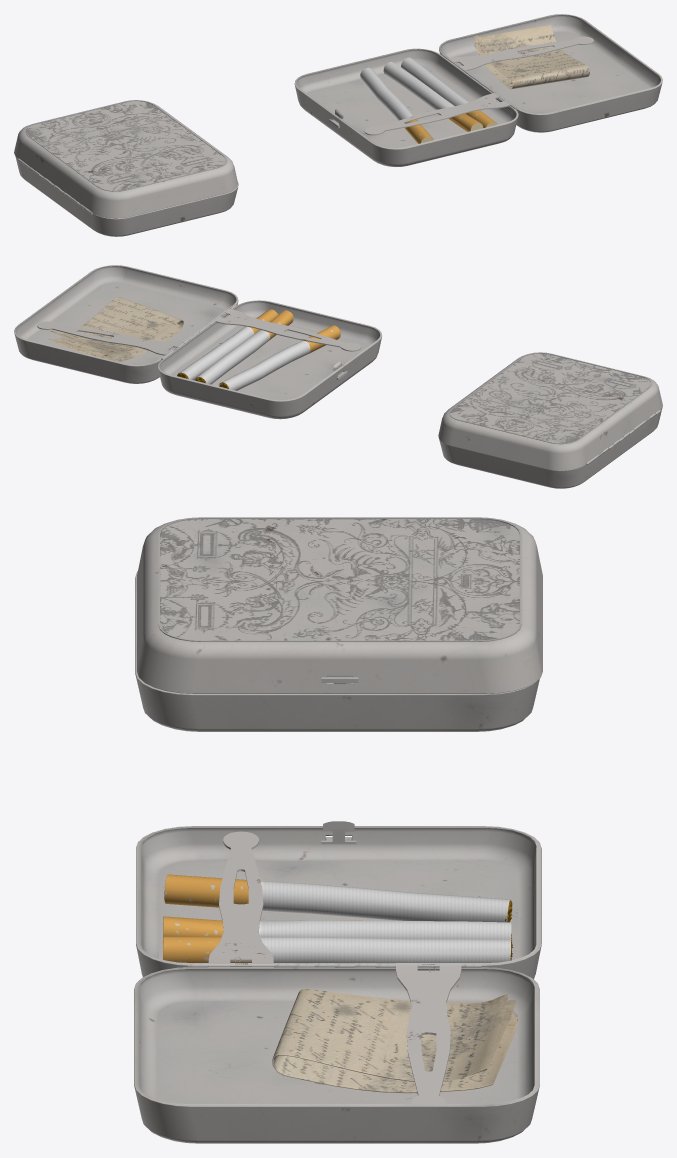
The model's file is cigarette_case.glb.
3 renders of one model, top to bottom at view 1: azimuth 30°, elevation 25°; view 2: azimuth 150°, elevation 25°; view 3: azimuth 270°, elevation 25°, orthographic. The views are drawn at different scales.
Parts seen in each view (by area): view 1: cigarette_case, cigarette_case_cover_a, cigarette_case_cover_b, cigarette_case_note, cigarette_case_clip_a, cigarette_case_cigarette_b, cigarette_case_clip_b, cigarette_case_cigarette_a, cigarette_case_cigarette_c; view 2: cigarette_case, cigarette_case_cover_a, cigarette_case_cover_b, cigarette_case_note, cigarette_case_cigarette_a, cigarette_case_clip_a, cigarette_case_cigarette_b, cigarette_case_clip_b, cigarette_case_cigarette_c; view 3: cigarette_case, cigarette_case_cover_b, cigarette_case_cover_a, cigarette_case_note, cigarette_case_cigarette_a, cigarette_case_cigarette_c, cigarette_case_cigarette_b, cigarette_case_clip_b, cigarette_case_clip_a.
Part boxes in pixels (x1,y1,x2,y2): cigarette_case: (14,100,238,236); cigarette_case_cover_a: (294,48,518,166); cigarette_case_cover_b: (439,14,662,132); cigarette_case_note: (474,25,589,89); cigarette_case_clip_a: (364,92,510,135); cigarette_case_cigarette_b: (383,62,483,131); cigarette_case_clip_b: (447,36,594,70); cigarette_case_cigarette_a: (360,67,433,143); cigarette_case_cigarette_c: (401,57,497,127); cigarette_case: (438,352,662,488); cigarette_case_cover_a: (157,300,381,419); cigarette_case_cover_b: (14,265,238,383); cigarette_case_note: (49,297,183,361); cigarette_case_cigarette_a: (218,325,340,390); cigarette_case_clip_a: (214,308,361,351); cigarette_case_cigarette_b: (194,310,293,384); cigarette_case_clip_b: (37,321,184,355); cigarette_case_cigarette_c: (177,309,277,380); cigarette_case: (135,517,542,731); cigarette_case_cover_b: (134,963,539,1143); cigarette_case_cover_a: (136,821,541,979); cigarette_case_note: (272,989,518,1093); cigarette_case_cigarette_a: (164,874,512,922); cigarette_case_cigarette_c: (163,936,512,962); cigarette_case_cigarette_b: (163,916,512,946); cigarette_case_clip_b: (396,964,461,1103); cigarette_case_clip_a: (208,831,273,966).
Bounding box in the file's own units: 0.3233 × 0.0245 × 0.1007.
Materials: 1 (1 with a texture image).
